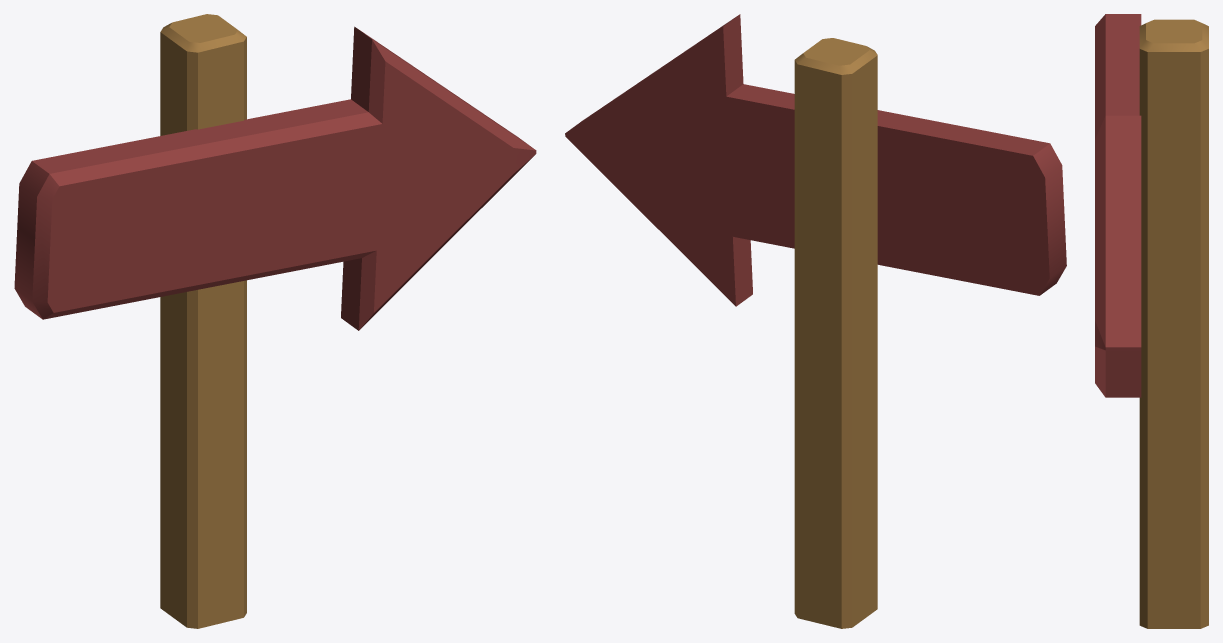
The model's file is Arrow_Side.gltf.
3 renders of one model, left to right at view 1: azimuth 30°, elevation 25°; view 2: azimuth 150°, elevation 25°; view 3: azimuth 270°, elevation 25°, orthographic. The views are drawn at different scales.
Visible parts, largest first — view 1: Arrow_Side; view 2: Arrow_Side; view 3: Arrow_Side.
Boxes of the visible parts, left/top/right/bottom form: Arrow_Side: left=14, top=14, right=536, bottom=628; Arrow_Side: left=565, top=14, right=1066, bottom=628; Arrow_Side: left=1095, top=14, right=1208, bottom=628.
Bounding box in the file's own units: 1.86 × 2.05 × 0.3632.
